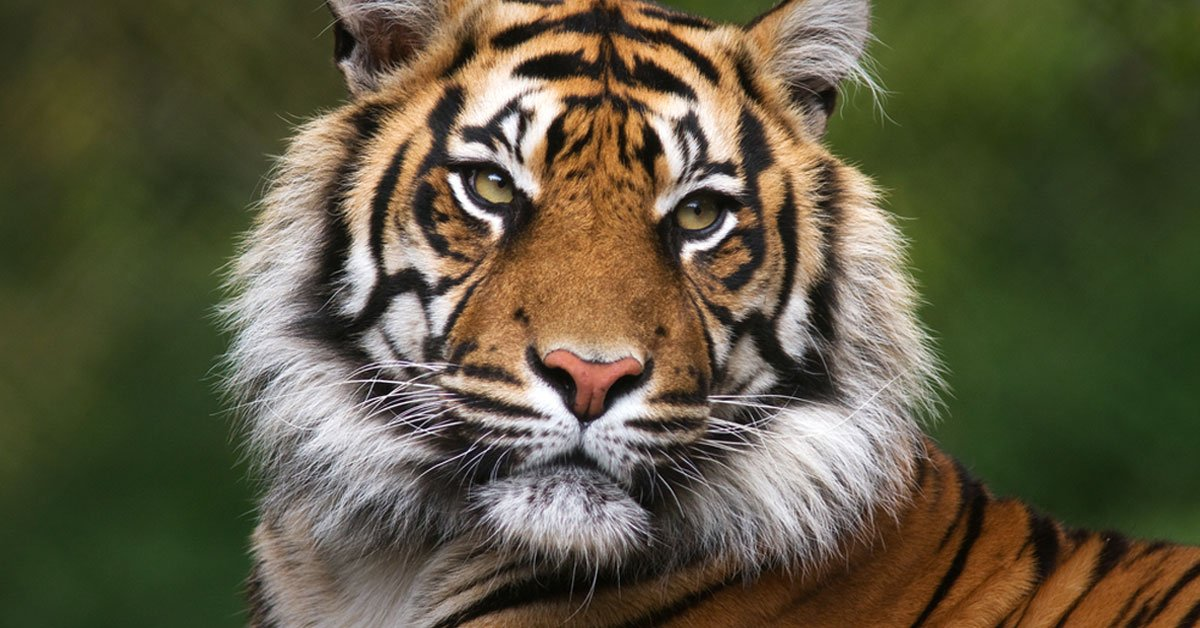Tigrew: (185, 10, 1079, 607)
